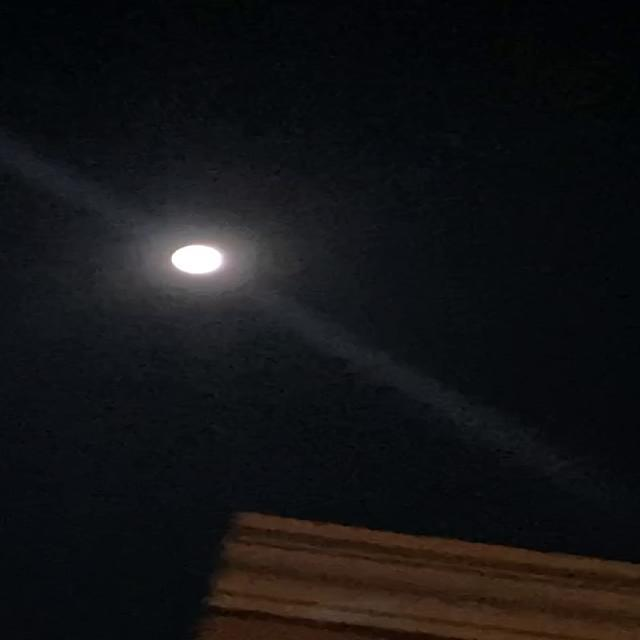moon: (156, 233, 248, 293)
